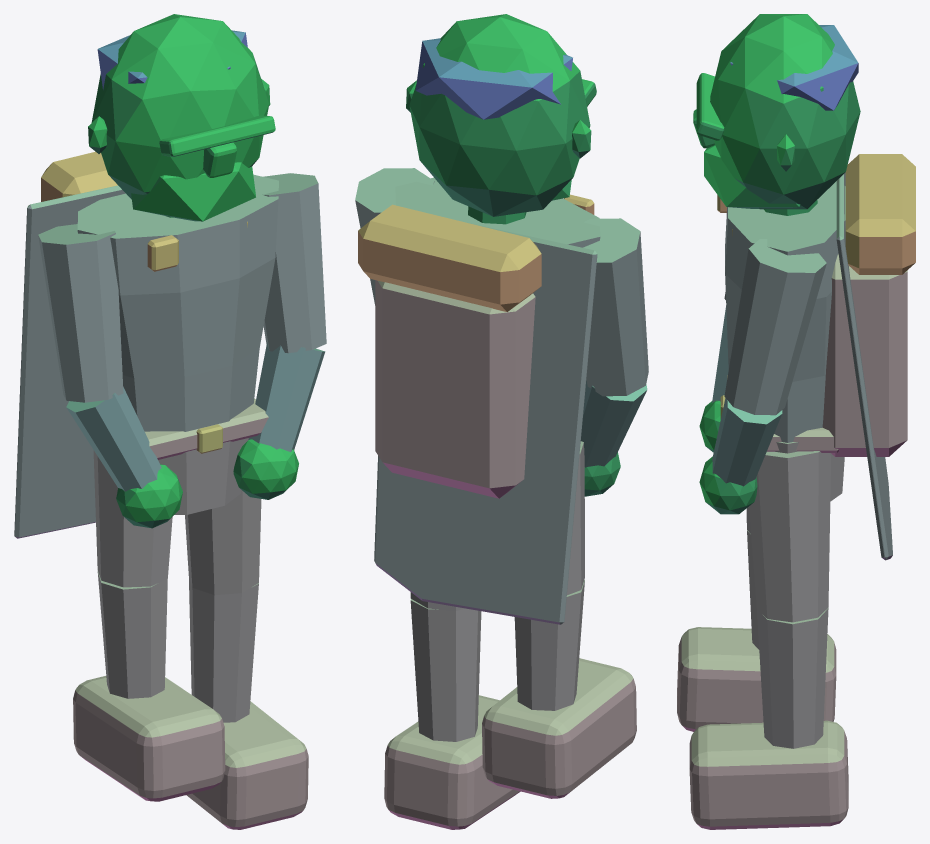
File: npc_refugee_passing_r_v01.glb
3 views of the same model, side by side, from view 1: azimuth 30°, elevation 25°; view 2: azimuth 150°, elevation 25°; view 3: azimuth 270°, elevation 25° (orthographic). The views are drawn at different scales.
Parts seen in each view (by area): view 1: GEO_npc_refugee_passing_r_v01; view 2: GEO_npc_refugee_passing_r_v01; view 3: GEO_npc_refugee_passing_r_v01.
Part boxes in pixels (<box>): GEO_npc_refugee_passing_r_v01: <box>14,14,326,829</box>; GEO_npc_refugee_passing_r_v01: <box>355,14,648,829</box>; GEO_npc_refugee_passing_r_v01: <box>677,14,915,829</box>.
Size of the model in its own units: 0.7519 by 2.08 by 0.5777.
